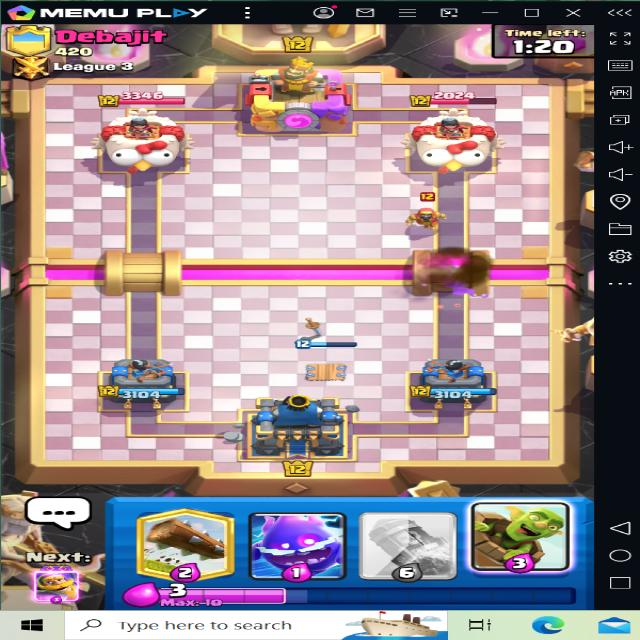Wizard: (392, 190, 457, 232)
